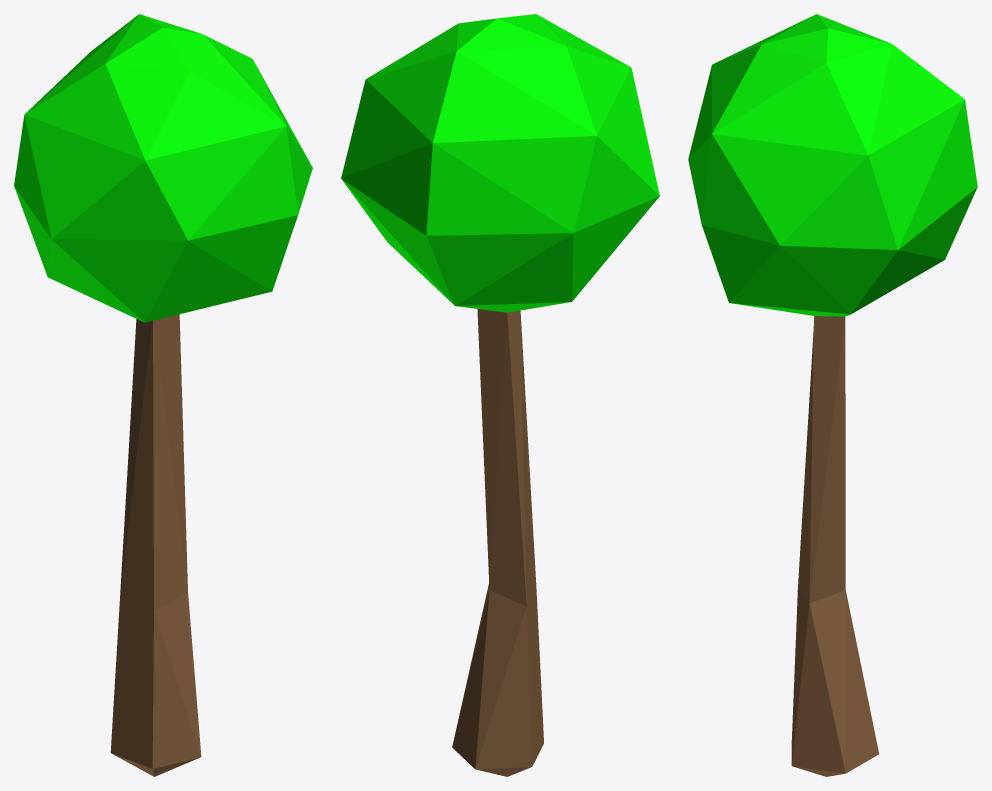
The model's file is tree.glb.
3 views of the same model, side by side, from view 1: azimuth 30°, elevation 25°; view 2: azimuth 150°, elevation 25°; view 3: azimuth 270°, elevation 25° (orthographic).
Visible parts, largest first — view 1: Circle; view 2: Circle; view 3: Circle.
Part boxes in pixels (<box>): Circle: <box>14,14,312,776</box>; Circle: <box>341,14,659,776</box>; Circle: <box>688,14,977,776</box>.
Size of the model in its own units: 2.61 by 7.09 by 2.47.
